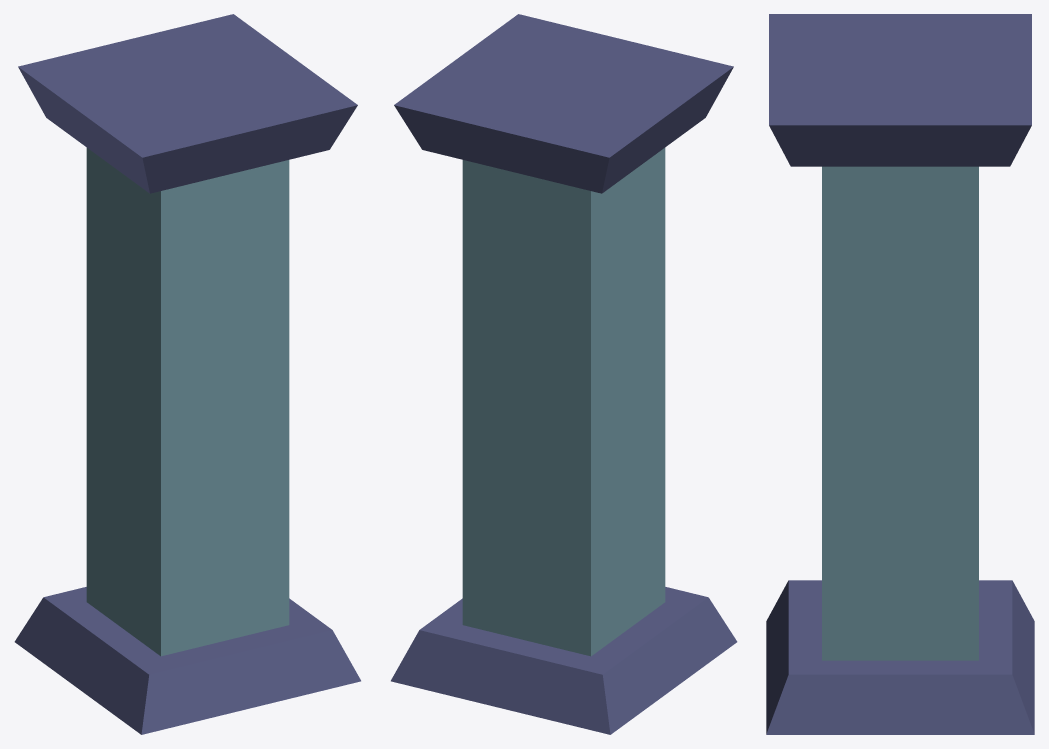
The model's file is Pillar.fbx.
The picture shows the model from 3 angles, left to right: view 1: azimuth 30°, elevation 25°; view 2: azimuth 150°, elevation 25°; view 3: azimuth 270°, elevation 25°; orthographic projection. The views are drawn at different scales.
Visible parts, largest first — view 1: Cube; view 2: Cube; view 3: Cube.
Part boxes in pixels (x1,y1,x2,y2): Cube: [14, 14, 360, 734]; Cube: [391, 14, 737, 734]; Cube: [766, 14, 1034, 734].
Size of the model in its own units: 240 by 600 by 240.
